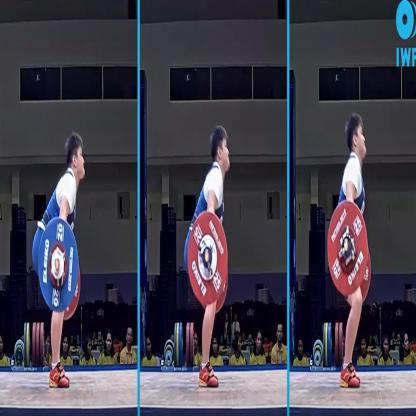barbell: (325, 200, 373, 304), (36, 215, 82, 321), (184, 209, 227, 314)
